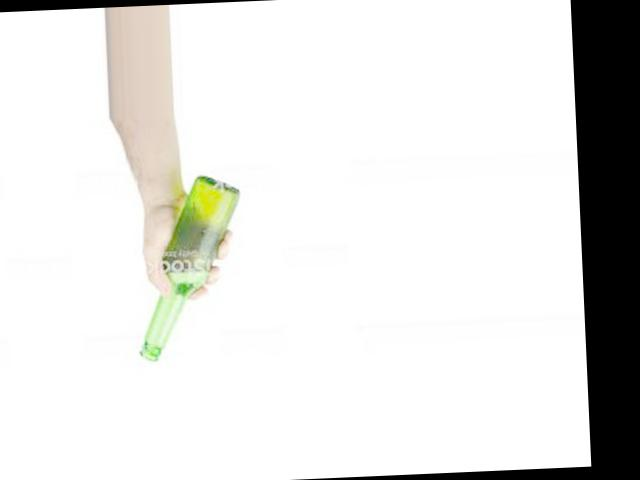beer: (131, 175, 247, 363)
